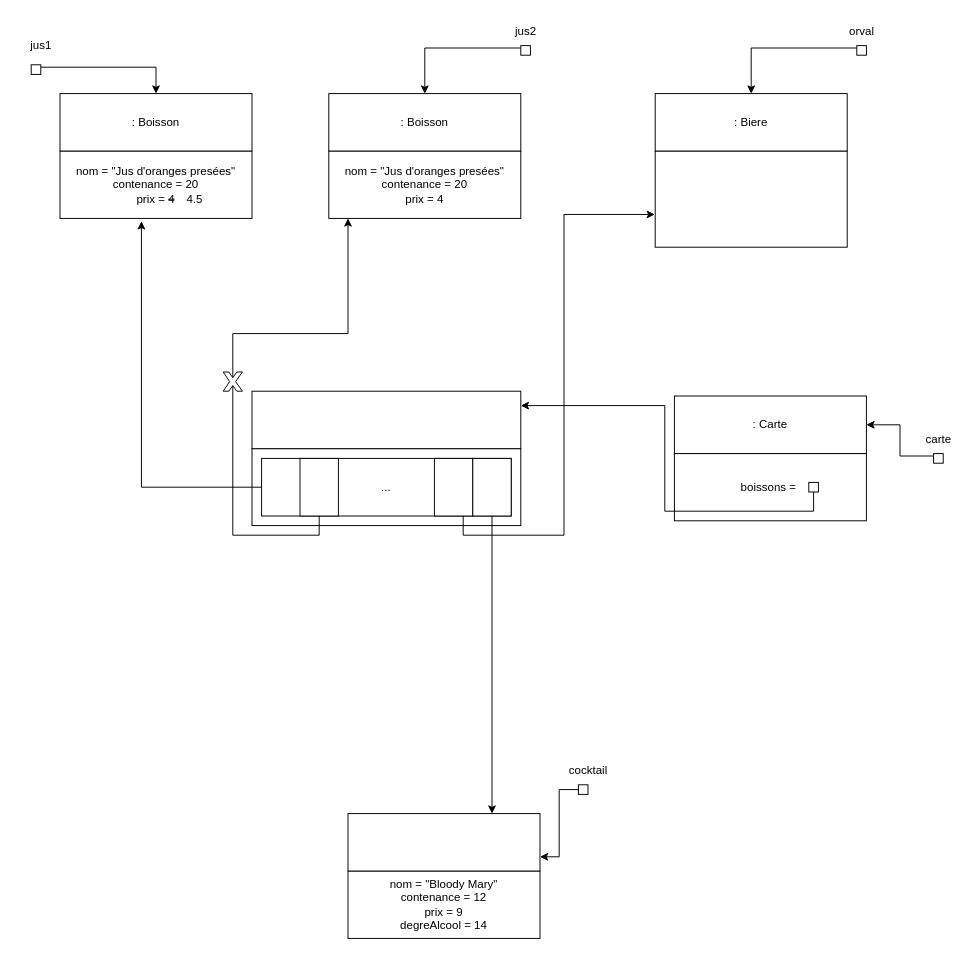
Some shapes in this 978 by 955 pixel diagram are drawn without their labels. Each missing label, with the centre of its shape:
: ArrayList<Boisson>: (x=386, y=419)
: BoissonAlcolisee: (x=443, y=842)
nom = "Orval" contenance = 33 prix = 4 degreAlcool = 6.2 pression = false: (x=750, y=198)
